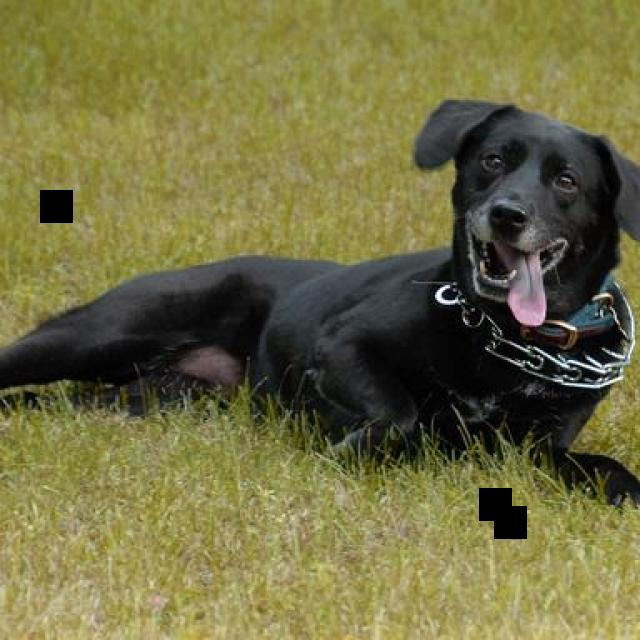adult_dog: (1, 94, 640, 509)
